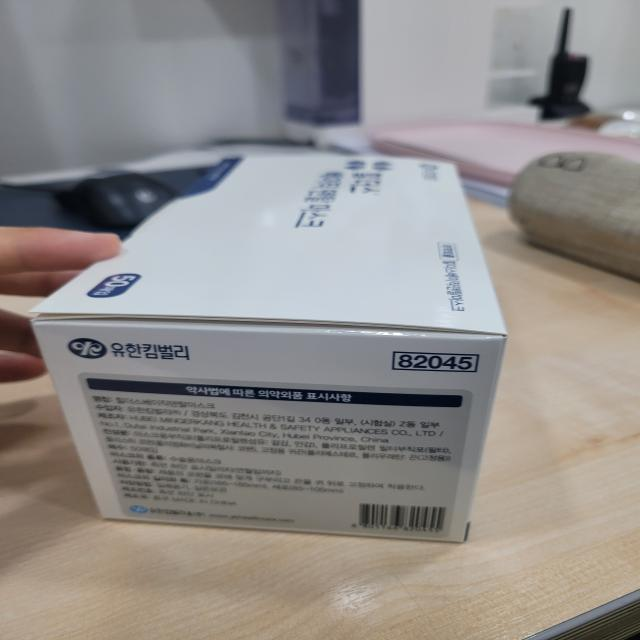mask: (0, 125, 530, 560)
